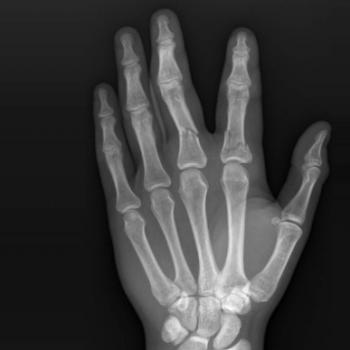Fracture: (172, 124, 207, 141)
